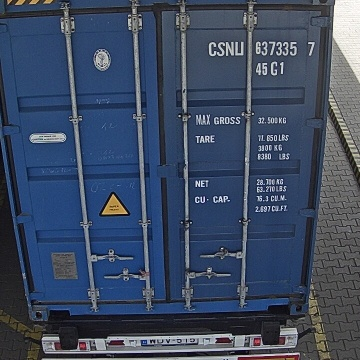serial_id: (209, 41, 316, 55)
